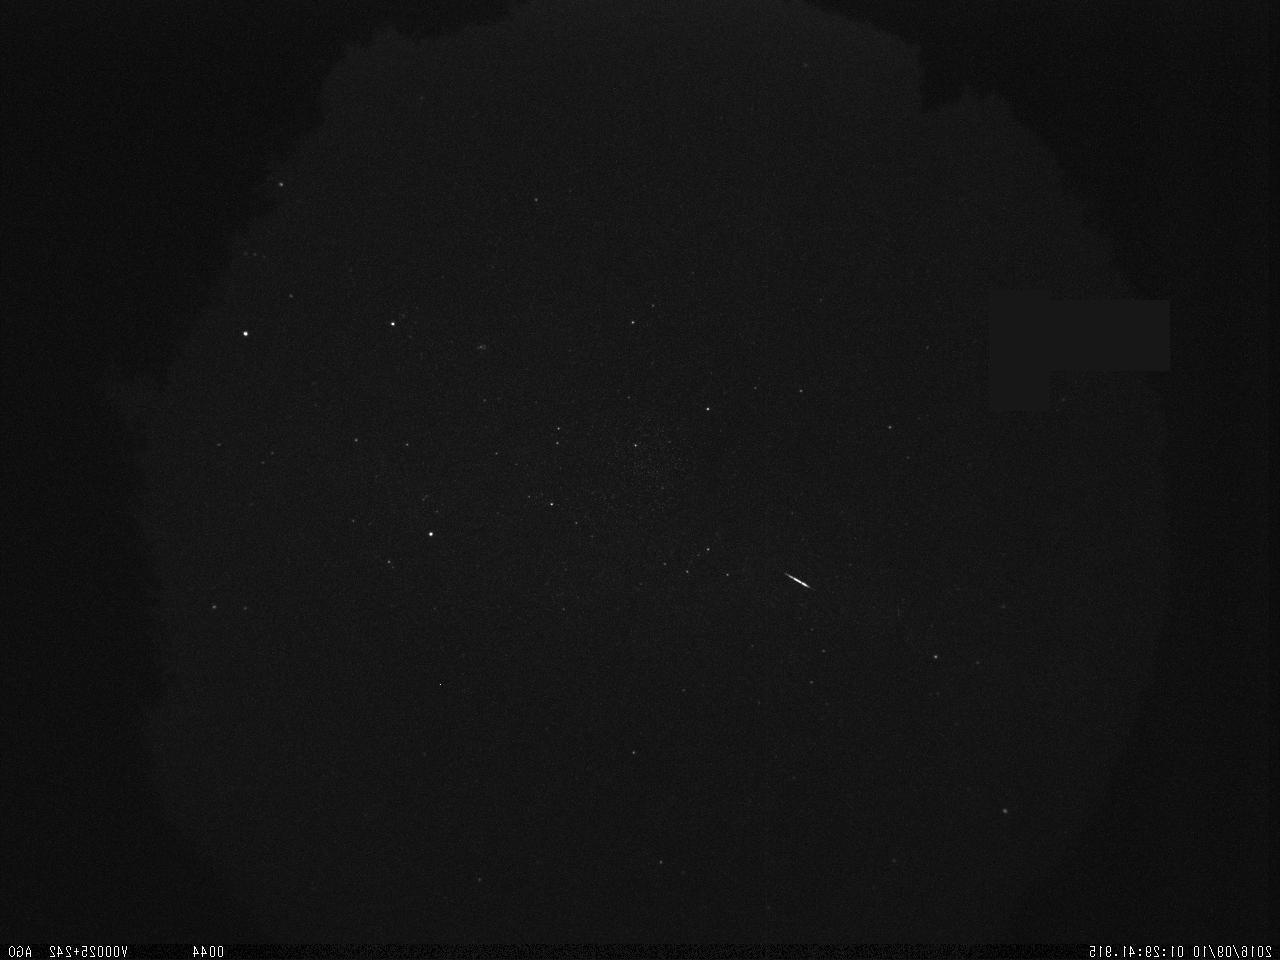meteor: (779, 570, 817, 597)
